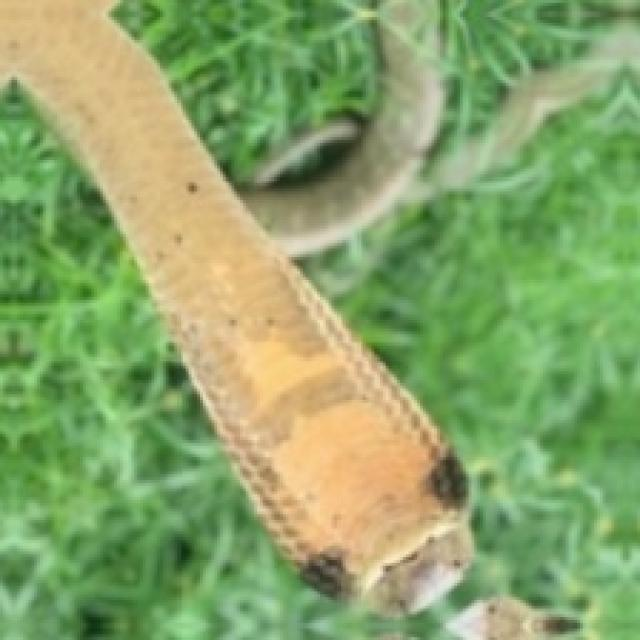king cobra: (0, 100, 363, 637), (306, 77, 637, 637)
